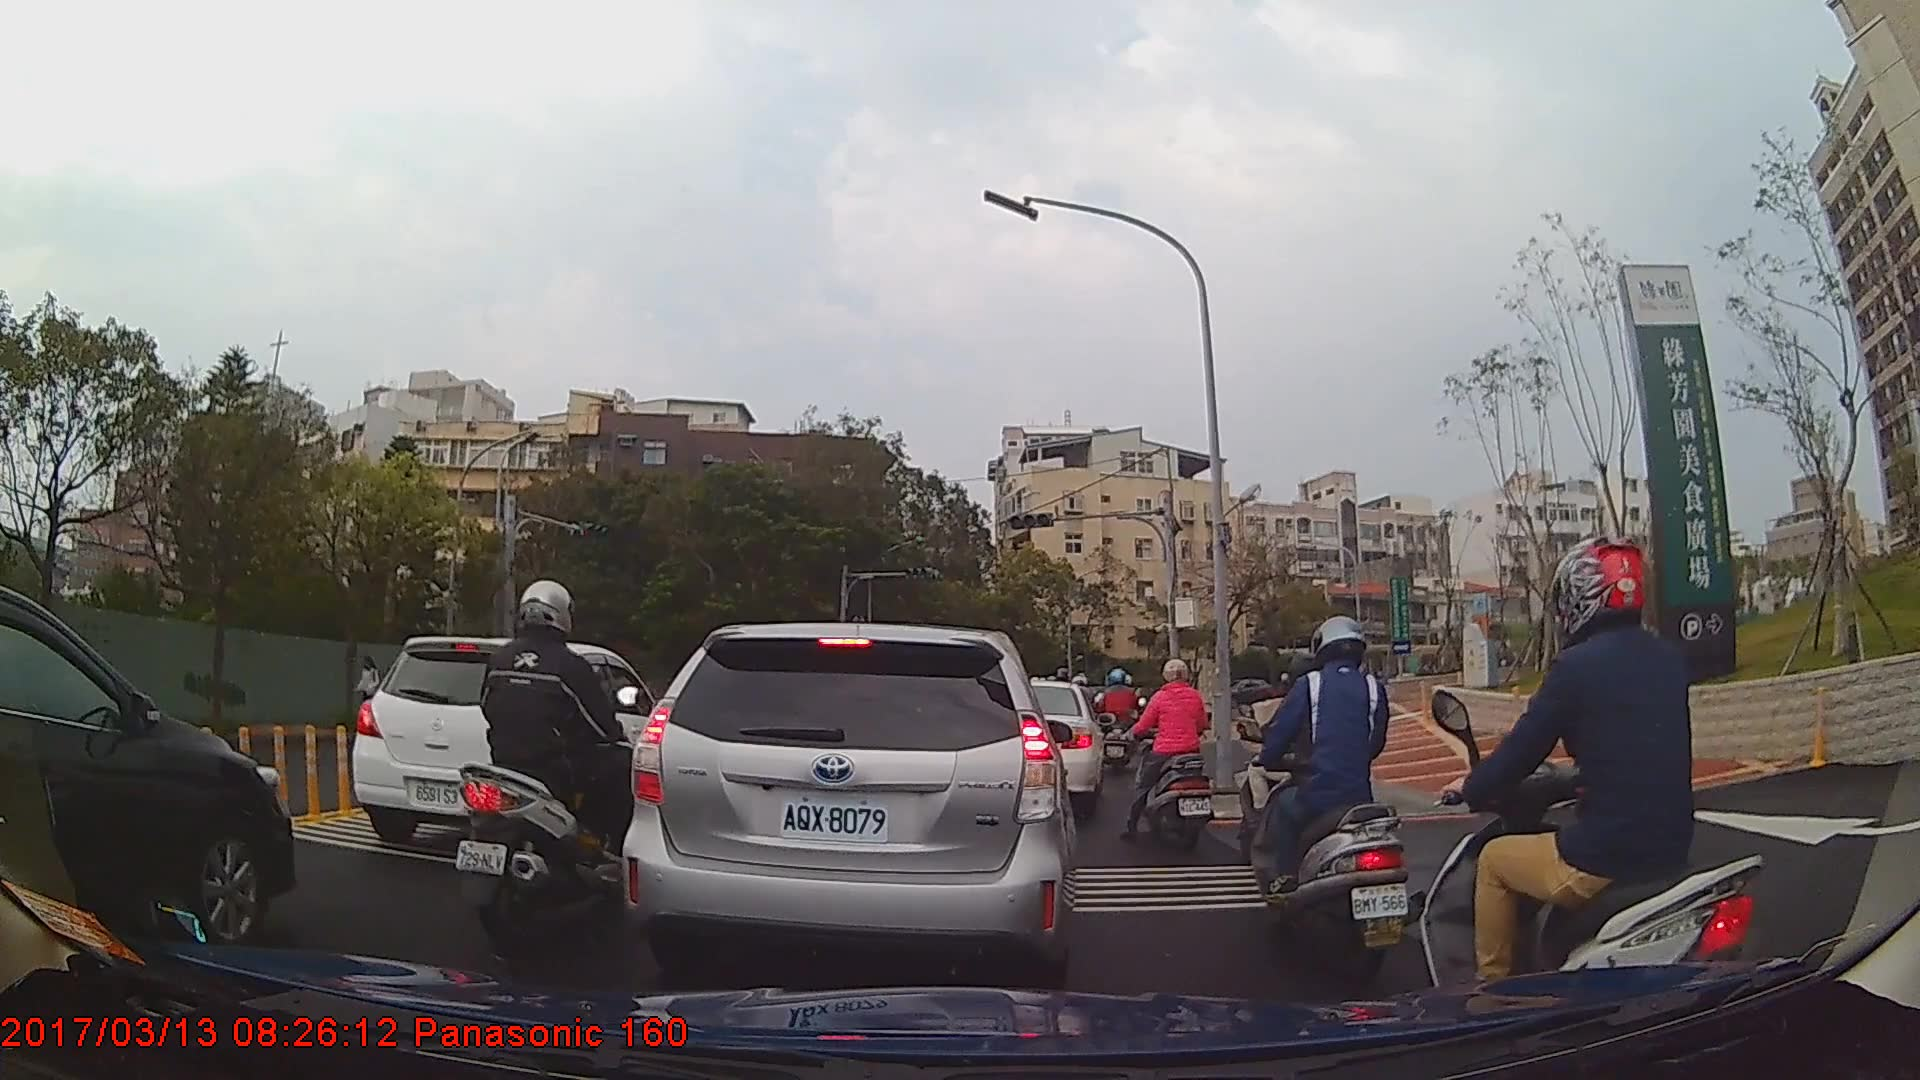pedestrian: (357, 657, 386, 733)
rider: (1429, 527, 1779, 1069), (456, 580, 644, 956), (1244, 615, 1417, 999), (1130, 660, 1219, 856), (1095, 666, 1143, 771)
vehicle: (619, 623, 1079, 1009), (0, 583, 303, 949), (350, 633, 683, 853), (998, 678, 1105, 812), (1216, 678, 1275, 707)
